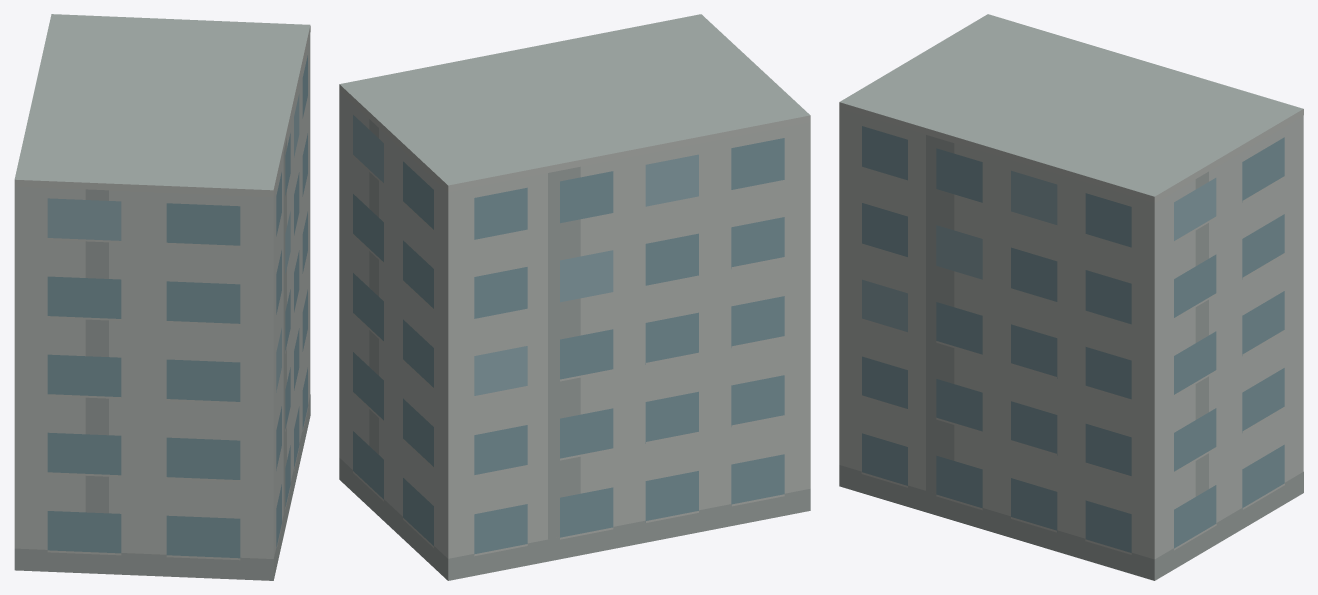
The model's file is survey-upis-32842783.glb.
3 renders of one model, left to right at view 1: azimuth 30°, elevation 25°; view 2: azimuth 150°, elevation 25°; view 3: azimuth 270°, elevation 25°, orthographic. The views are drawn at different scales.
Parts seen in each view (by area): view 1: survey-upis-32842783.tmp; view 2: survey-upis-32842783.tmp; view 3: survey-upis-32842783.tmp.
Boxes of the visible parts, bbox=[...] form: survey-upis-32842783.tmp: bbox=[14, 14, 310, 580]; survey-upis-32842783.tmp: bbox=[339, 14, 810, 580]; survey-upis-32842783.tmp: bbox=[839, 14, 1303, 580].
Bounding box in the file's own units: 14.39 × 14.1 × 15.46.
